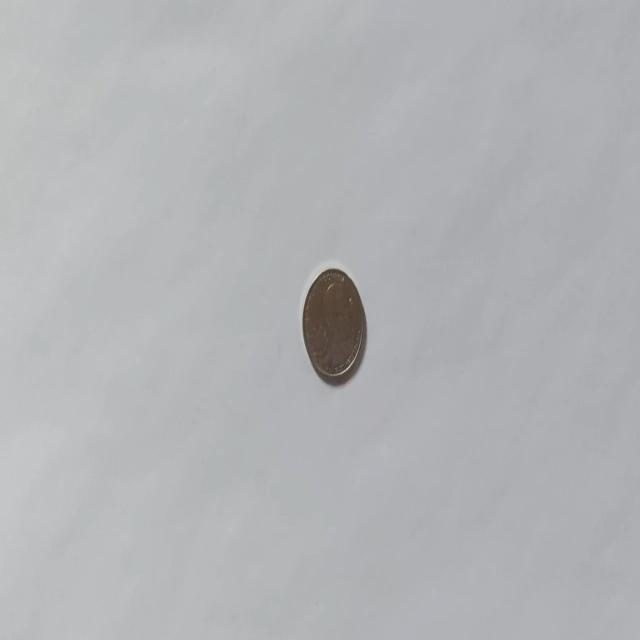seribu rupiah koin: (300, 263, 366, 385)
